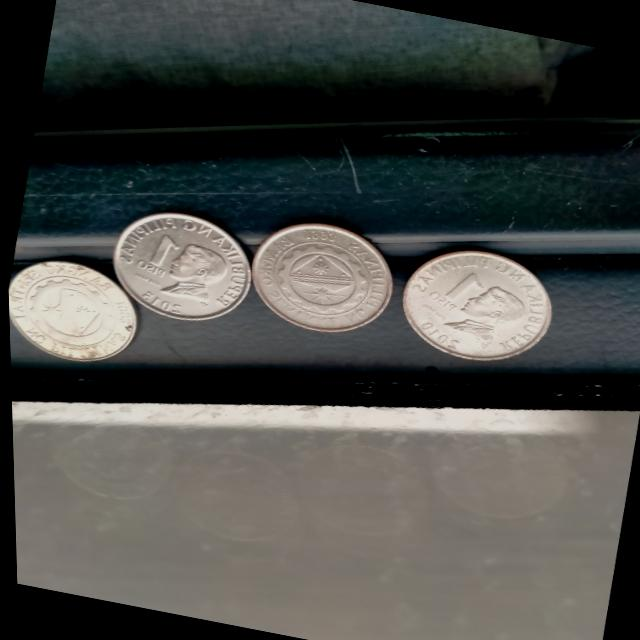1_Old_Back: (258, 228, 378, 328), (8, 261, 129, 357)
